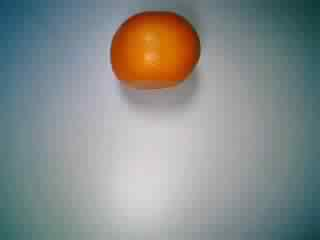orange: (109, 8, 203, 94)
